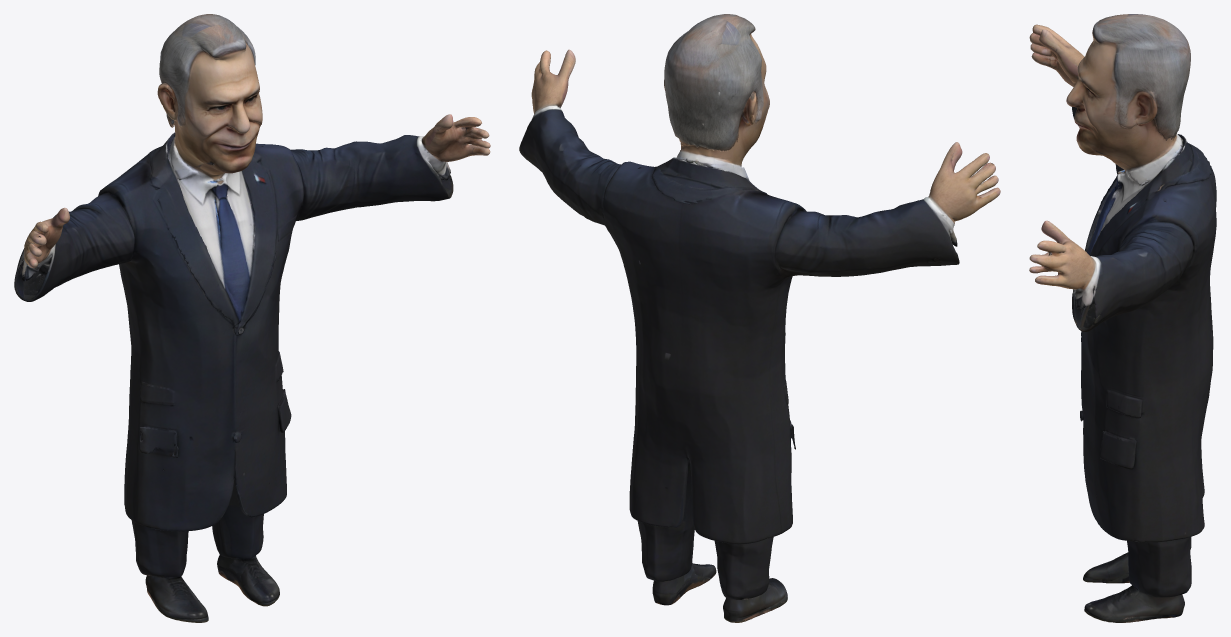
File: big.yahu.glb
3 views of the same model, side by side, from view 1: azimuth 30°, elevation 25°; view 2: azimuth 150°, elevation 25°; view 3: azimuth 270°, elevation 25° (orthographic).
Visible parts, largest first — view 1: Object_4, Object_5; view 2: Object_4, Object_5; view 3: Object_4, Object_5.
Boxes of the visible parts, box(x1,y1,x2,y2) form: Object_4: box(14, 14, 488, 612); Object_5: box(14, 14, 490, 622); Object_4: box(521, 14, 988, 618); Object_5: box(519, 15, 1000, 622); Object_4: box(1036, 14, 1216, 622); Object_5: box(1029, 14, 1216, 621).
Size of the model in its own units: 1.68 by 2 by 0.5871.
1 material, 1 textured.
